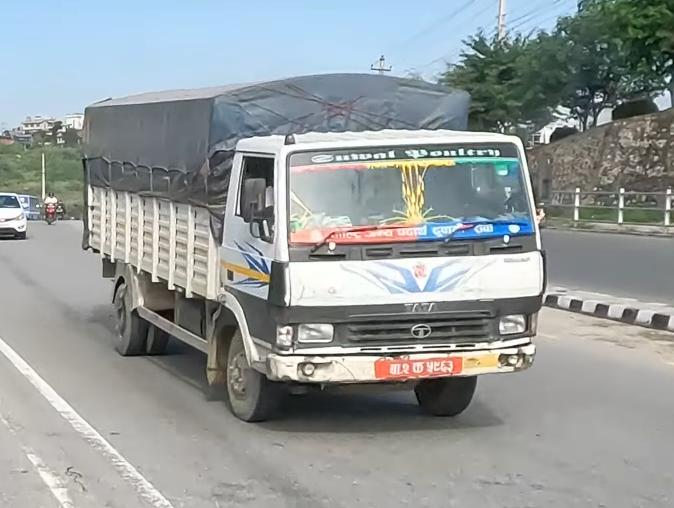car: (0, 191, 27, 239)
scooter: (43, 199, 59, 226)
truck: (80, 71, 548, 422)
